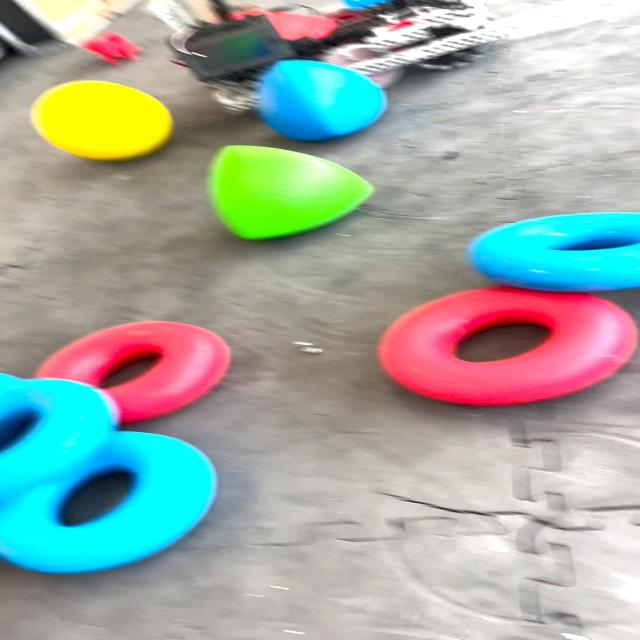Blue-Ring: (0, 431, 216, 572), (0, 374, 118, 502), (467, 212, 639, 291)
Red-Ring: (378, 286, 638, 406), (36, 321, 231, 424)
